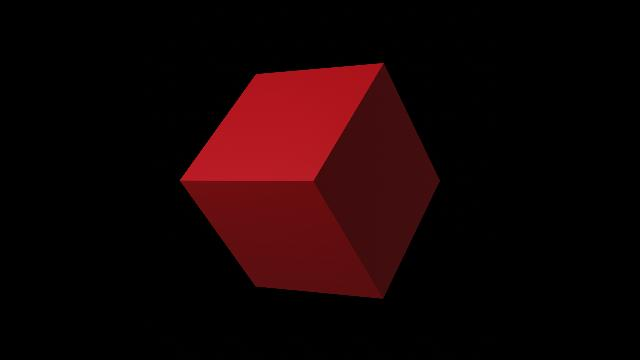Cube: (172, 53, 442, 307)
